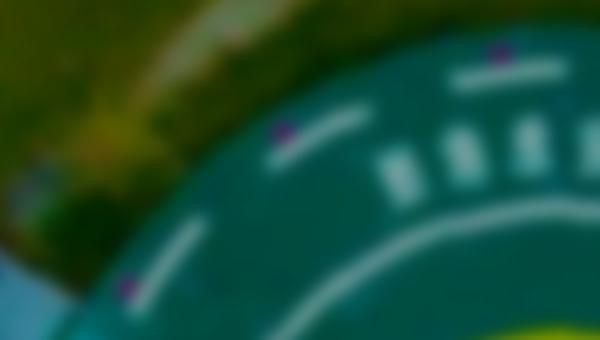Apron: (492, 322, 600, 339)
